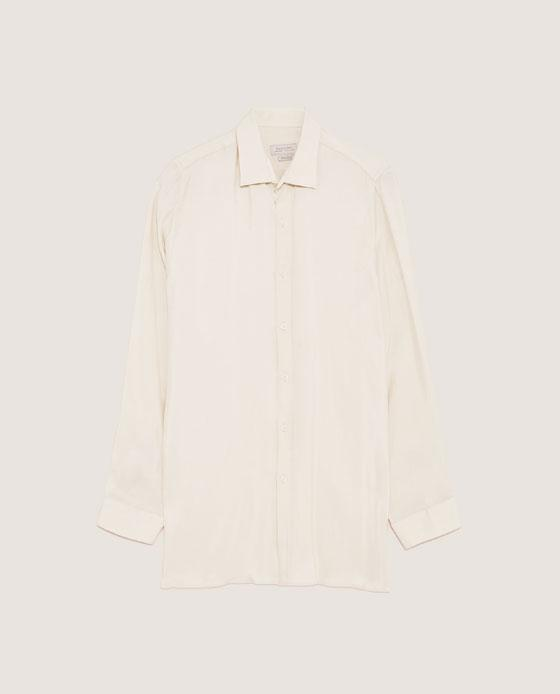teeshirt: (97, 106, 475, 599)
